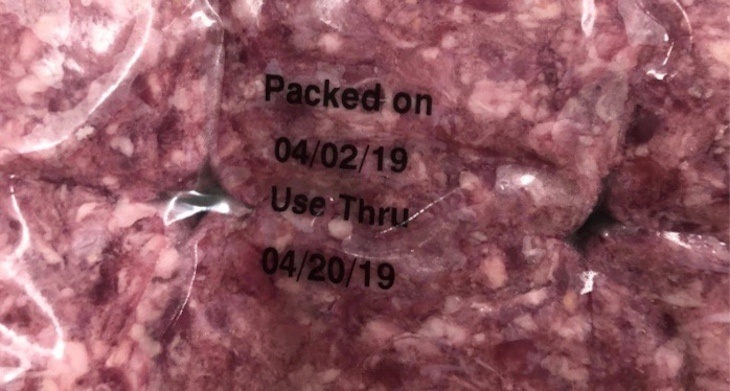ground_beef: (450, 36, 699, 391)
